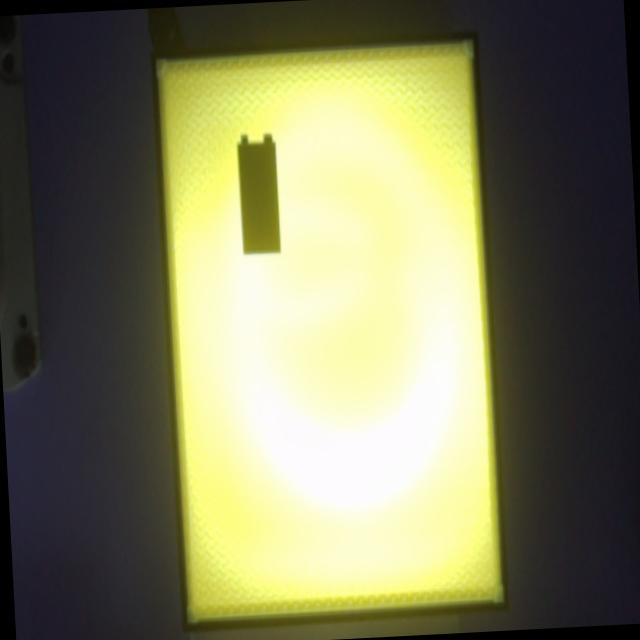bateria: (238, 135, 282, 256)
mesa: (150, 31, 509, 632)
